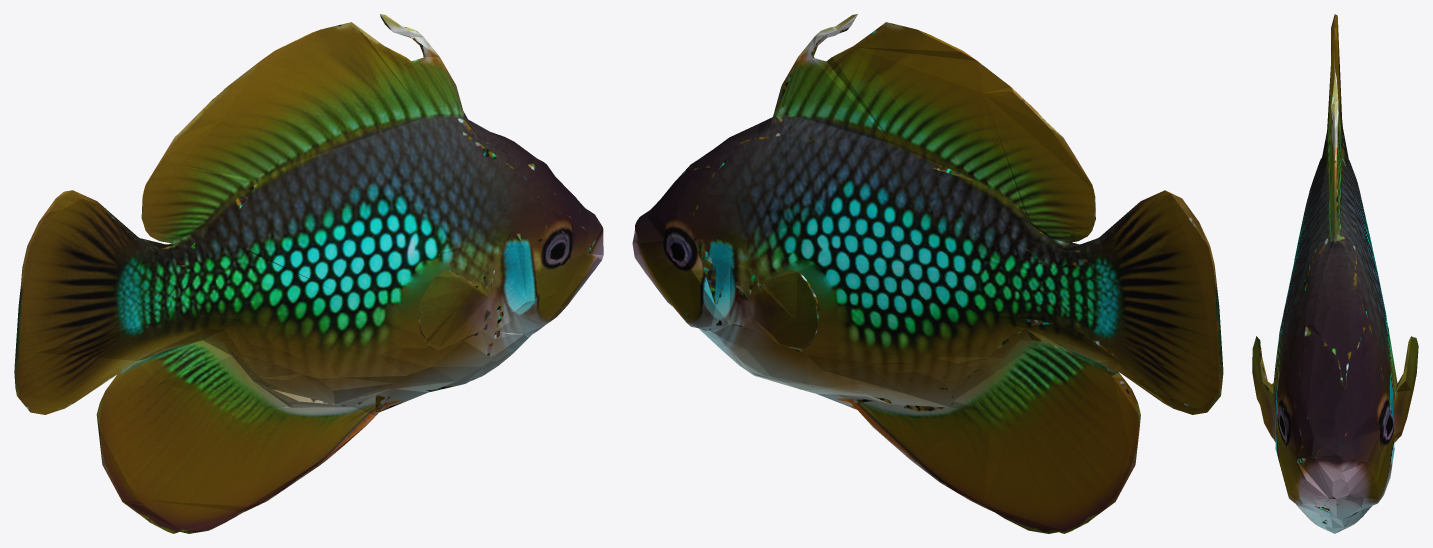
Rendered from fish_0007_smpl23_resized.glb.
3 views of the same model, side by side, from view 1: azimuth 30°, elevation 25°; view 2: azimuth 150°, elevation 25°; view 3: azimuth 270°, elevation 25° (orthographic). The views are drawn at different scales.
Parts seen in each view (by area): view 1: world; view 2: world; view 3: world.
Part boxes in pixels (<box>): world: <box>14,14,603,533</box>; world: <box>632,14,1223,533</box>; world: <box>1252,14,1418,533</box>.
Bounding box in the file's own units: 1.99 × 1.54 × 0.4568.
Materials: 1 (1 with a texture image).
